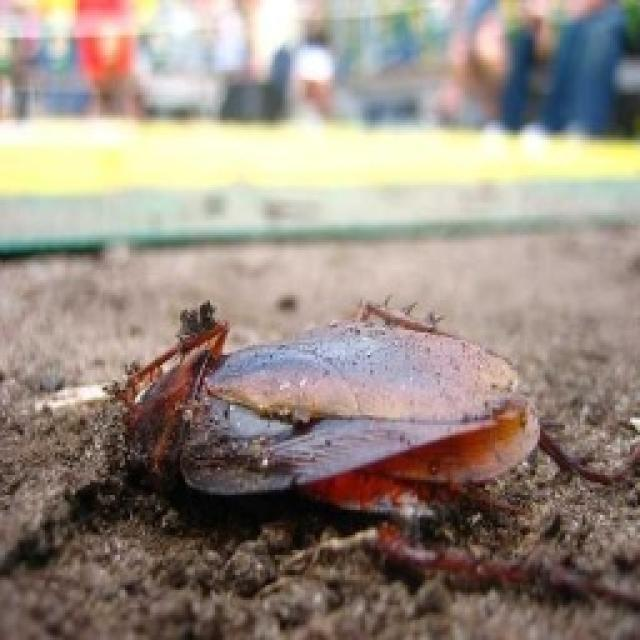cockroach: (181, 311, 543, 502)
